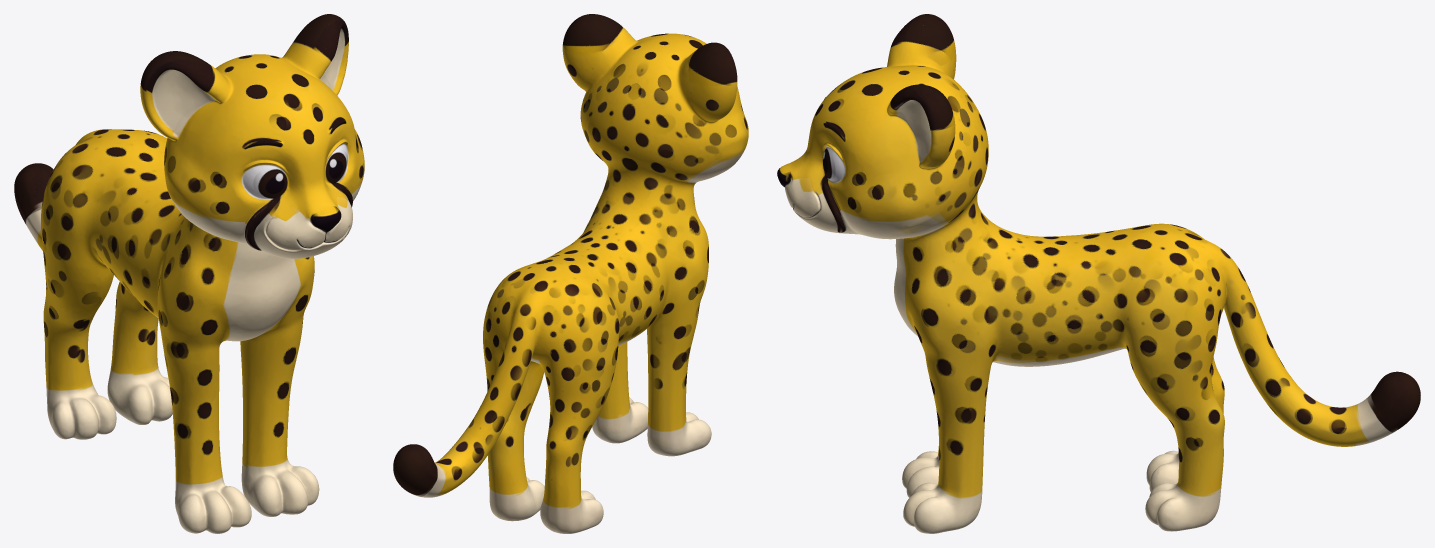
Rendered from cheetah.glb.
The picture shows the model from 3 angles, left to right: view 1: azimuth 30°, elevation 25°; view 2: azimuth 150°, elevation 25°; view 3: azimuth 270°, elevation 25°; orthographic projection. The views are drawn at different scales.
Bounding box in the file's own units: 0.6622 × 1.48 × 1.9.
Materials: 1 (1 with a texture image).
